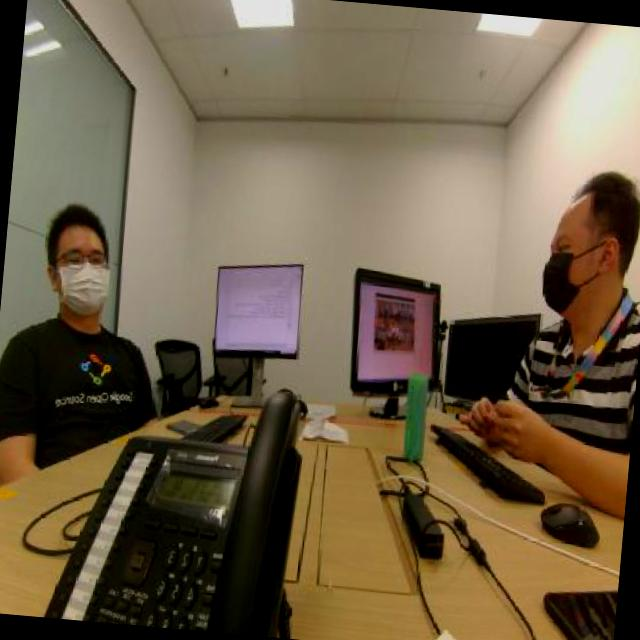Person: (485, 140, 640, 485), (0, 163, 175, 462)
